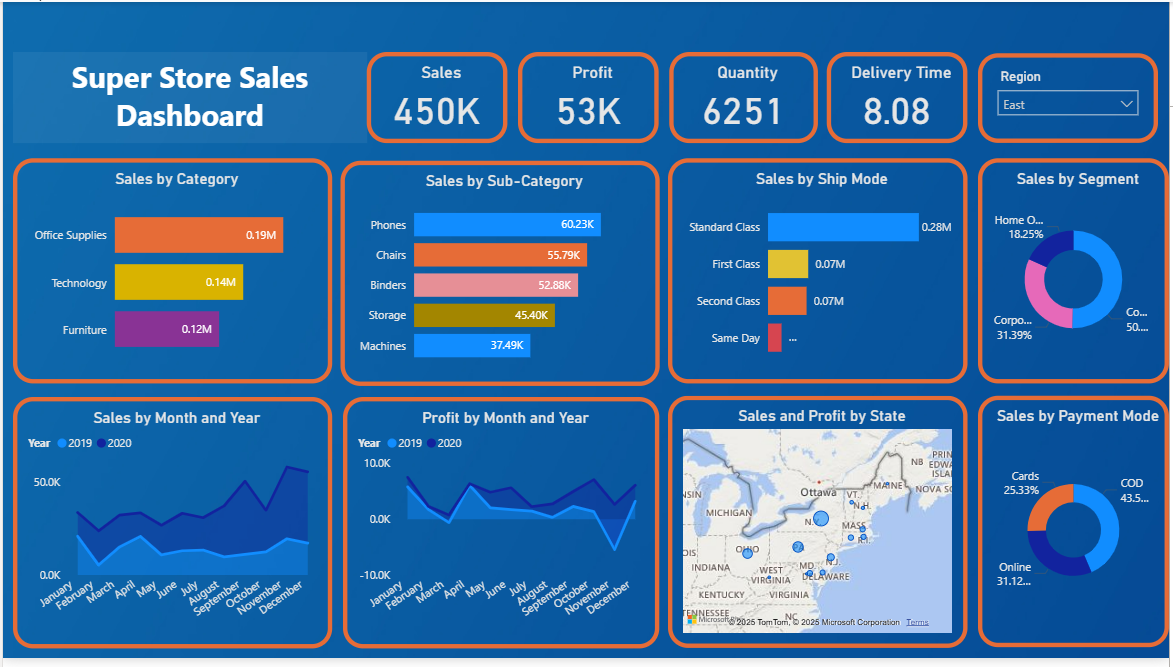

What the dashboard file says about the page in this screenshot:
{"tool":"powerbi","page":{"name":"Page 1","canvas":[1280,720],"ordinal":0},"visuals":[{"type":"barChart","title":" Sales by Category","fields":{"Category":["SuperStore_Sales_Dataset.Category"],"Y":["Sum(SuperStore_Sales_Dataset.Sales)"]},"box":[11.4,171.4,350,247.1],"z":0},{"type":"barChart","title":" Sales by Sub-Category","fields":{"Y":["Sum(SuperStore_Sales_Dataset.Sales)"],"Category":["SuperStore_Sales_Dataset.Sub-Category"]},"box":[370,174.3,350,247.1],"z":1000},{"type":"barChart","title":" Sales by Ship Mode","fields":{"Y":["Sum(SuperStore_Sales_Dataset.Sales)"],"Category":["SuperStore_Sales_Dataset.Ship Mode"]},"box":[730,171.4,328.6,247.1],"z":2000},{"type":"stackedAreaChart","title":" Sales by Month and Year","fields":{"Y":["Sum(SuperStore_Sales_Dataset.Sales)"],"Category":["SuperStore_Sales_Dataset.Order Date.Variation.Date Hierarchy.Month"],"Series":["SuperStore_Sales_Dataset.Order Date.Variation.Date Hierarchy.Year"]},"box":[11.4,434.3,350,275.7],"z":3000},{"type":"stackedAreaChart","title":"Profit by Month and Year","fields":{"Category":["SuperStore_Sales_Dataset.Order Date.Variation.Date Hierarchy.Month"],"Series":["SuperStore_Sales_Dataset.Order Date.Variation.Date Hierarchy.Year"],"Y":["Sum(SuperStore_Sales_Dataset.Profit)"]},"box":[372.9,434.3,347.1,275.7],"z":4000},{"type":"map","title":"Sales and Profit by State","fields":{"Category":["SuperStore_Sales_Dataset.State"],"Size":["Sum(SuperStore_Sales_Dataset.Sales)"]},"box":[730,432.9,328.6,277.1],"z":5000},{"type":"donutChart","title":" Sales by Segment","fields":{"Y":["Sum(SuperStore_Sales_Dataset.Sales)"],"Category":["SuperStore_Sales_Dataset.Segment"]},"box":[1058.6,171.4,210,247.1],"z":6000},{"type":"donutChart","title":" Sales by Payment Mode","fields":{"Y":["Sum(SuperStore_Sales_Dataset.Sales)"],"Category":["SuperStore_Sales_Dataset.Payment Mode"]},"box":[1070,432.9,210,275.7],"z":7000},{"type":"slicer","fields":{"Values":["SuperStore_Sales_Dataset.Region"]},"box":[1070,54.3,198.6,100],"z":8000},{"type":"textbox","box":[11.4,54.3,388.6,100],"z":8001},{"type":"card","title":"Sales","fields":{"Values":["Sum(SuperStore_Sales_Dataset.Sales)"]},"box":[400,54.3,154.3,100],"z":8002},{"type":"card","title":"Profit","fields":{"Values":["Sum(SuperStore_Sales_Dataset.Profit)"]},"box":[565.7,54.3,154.3,100],"z":8003},{"type":"card","title":"Quantity","fields":{"Values":["Sum(SuperStore_Sales_Dataset.Quantity)"]},"box":[731.4,54.3,162.9,100],"z":8004},{"type":"card","title":"Delivery Time","fields":{"Values":["Avg(SuperStore_Sales_Dataset.Avgdelivery)"]},"box":[904.3,54.3,154.3,100],"z":8005}]}

Visuals, with their boxes in screenshot pixels (x1, y1, x2, y2), scaled from the page's 1280x720 canvas onto the 1173x667 screenshot:
" Sales by Category" barChart: rect(10, 159, 331, 388)
" Sales by Sub-Category" barChart: rect(339, 161, 660, 390)
" Sales by Ship Mode" barChart: rect(669, 159, 970, 388)
" Sales by Month and Year" stackedAreaChart: rect(10, 402, 331, 658)
"Profit by Month and Year" stackedAreaChart: rect(342, 402, 660, 658)
"Sales and Profit by State" map: rect(669, 401, 970, 658)
" Sales by Segment" donutChart: rect(970, 159, 1163, 388)
" Sales by Payment Mode" donutChart: rect(981, 401, 1172, 656)
slicer - SuperStore_Sales_Dataset.Region: rect(981, 50, 1163, 143)
textbox: rect(10, 50, 367, 143)
"Sales" card: rect(367, 50, 508, 143)
"Profit" card: rect(518, 50, 660, 143)
"Quantity" card: rect(670, 50, 820, 143)
"Delivery Time" card: rect(829, 50, 970, 143)
